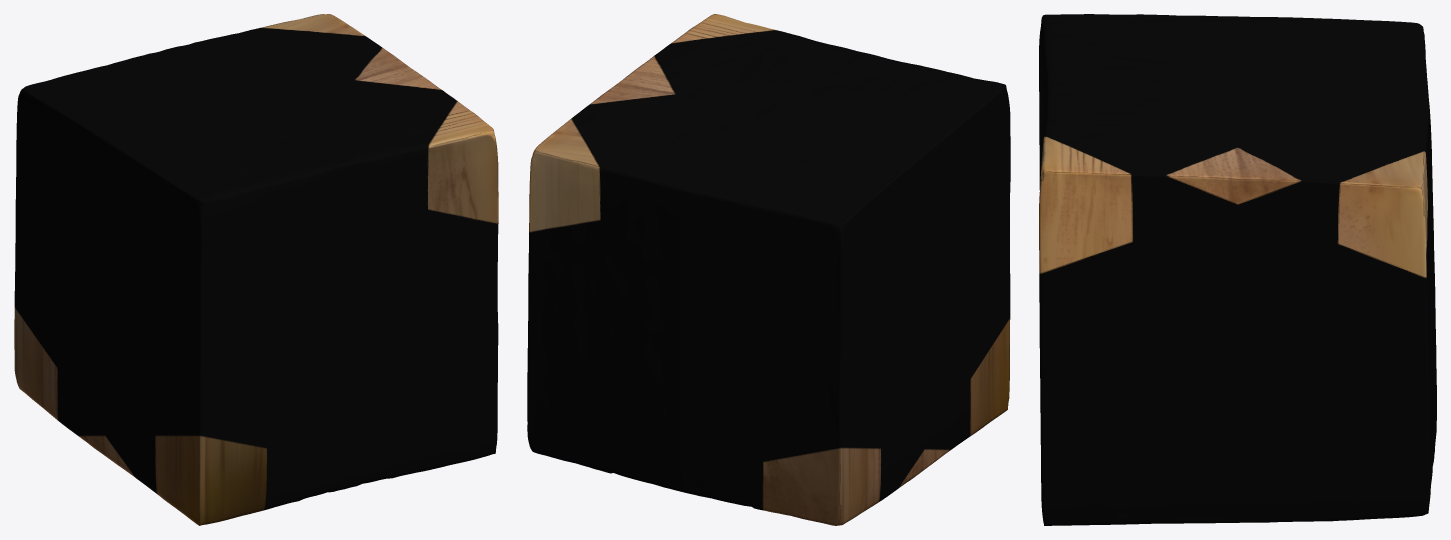
Rendered from relay_block-visual.glb.
3 views of the same model, side by side, from view 1: azimuth 30°, elevation 25°; view 2: azimuth 150°, elevation 25°; view 3: azimuth 270°, elevation 25° (orthographic). The views are drawn at different scales.
Parts seen in each view (by area): view 1: model; view 2: model; view 3: model.
Part boxes in pixels (box(x1,y1,x2,y2)): model: box(14, 14, 498, 525); model: box(527, 14, 1010, 525); model: box(1039, 14, 1436, 525).
Bounding box in the file's own units: 0.1008 × 0.1 × 0.1011.
1 material, 1 textured.
